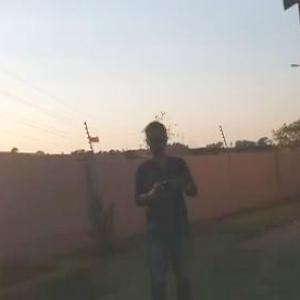follow: (131, 115, 208, 299)
